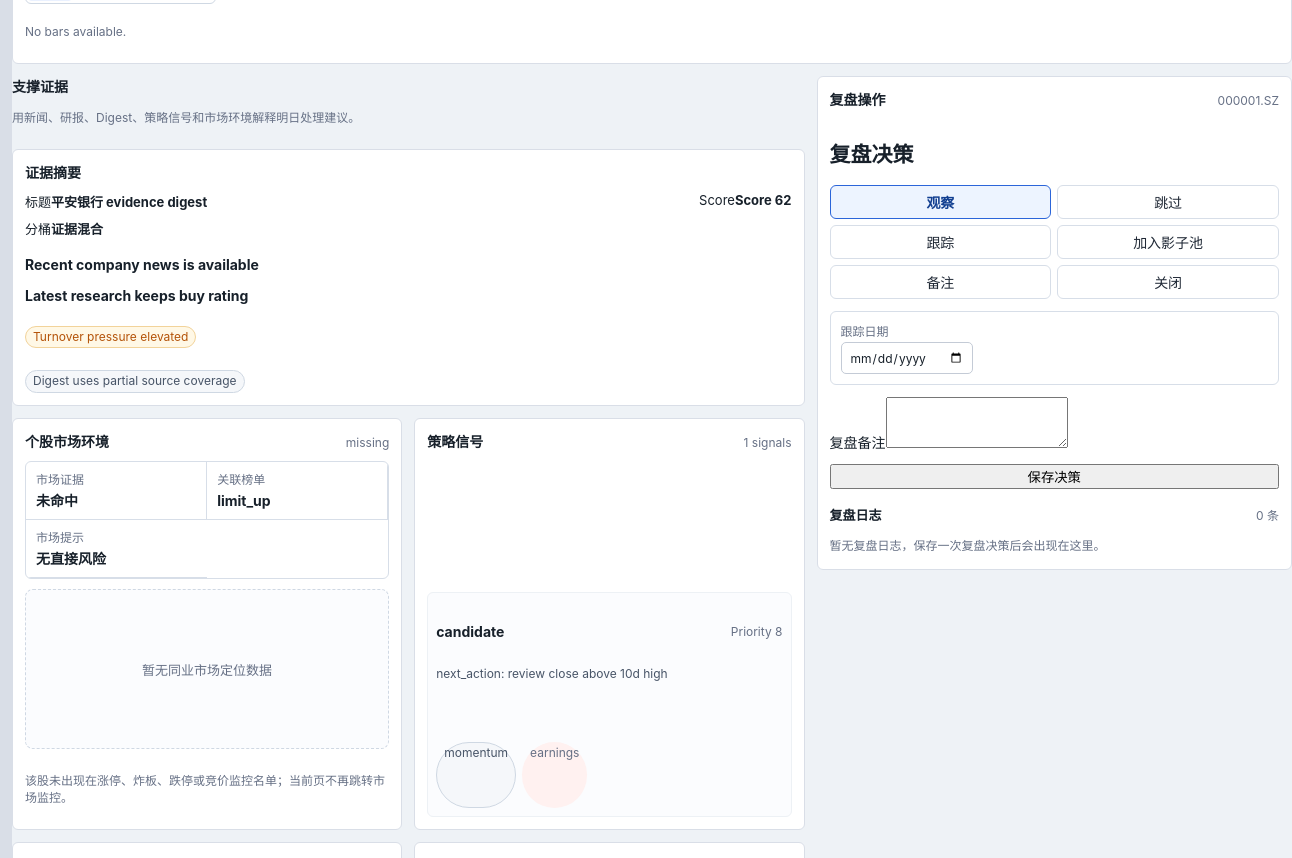
Test: StockWorkspace › creates operator decisions from Evidence Digest lineage and refreshes history
(page scrolled)
expect the text "平安银行 evidence digest" is shown: met, box [51,194,207,210]
Type "观察回踩确认" into the text box named "operator note" at (976, 423), box [886,398,1068,448]
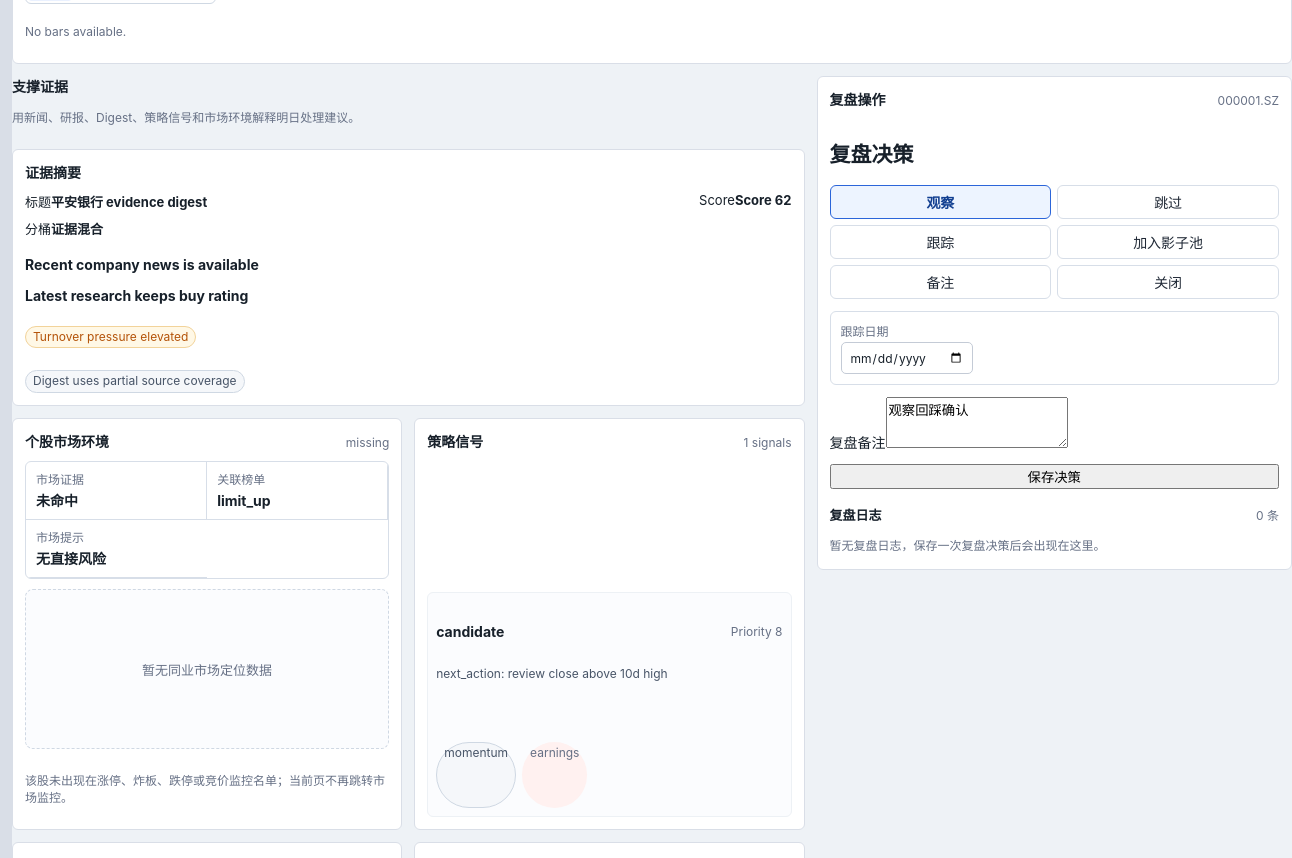
Click the button with aria-label "Save decision" at (1054, 477), box [830,464,1279,490]
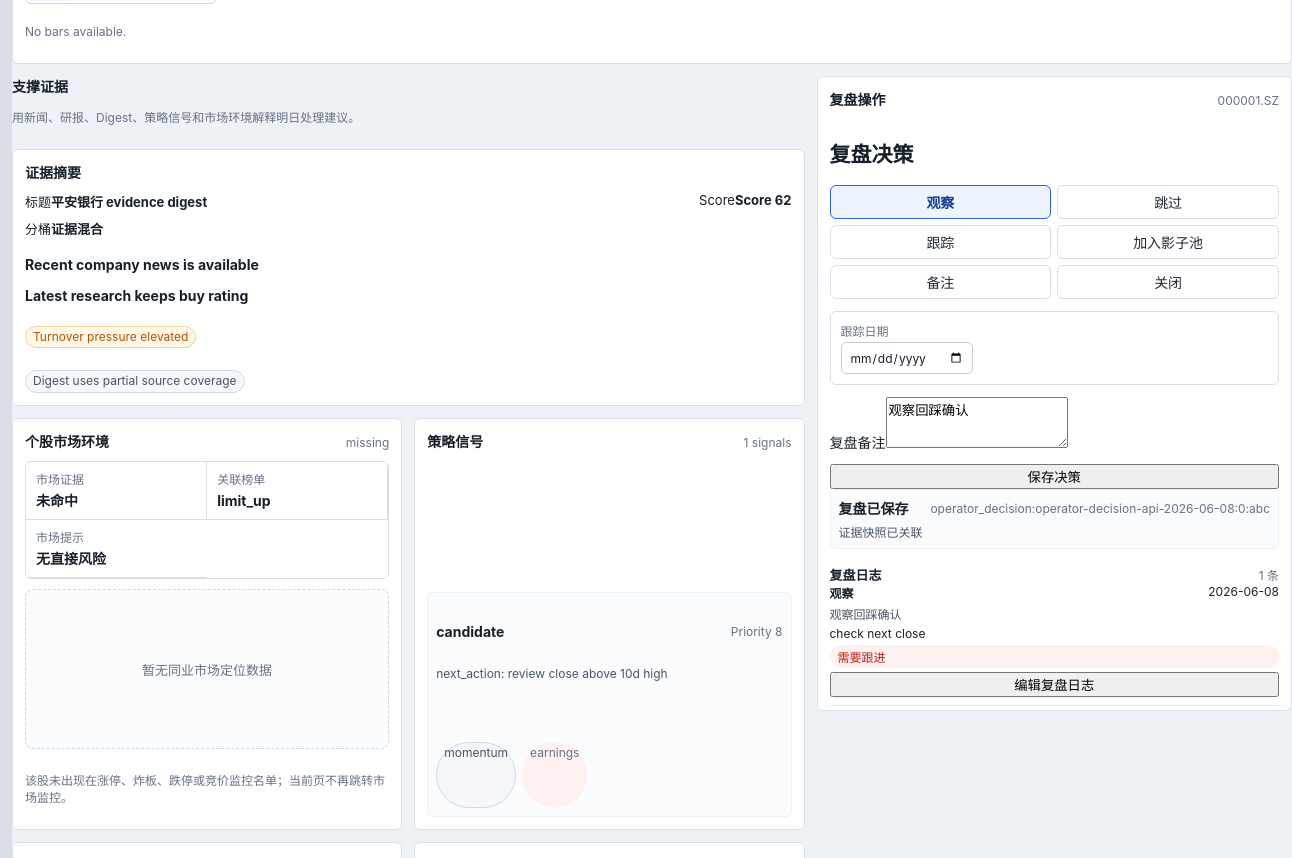
expect the text "证据快照已关联" is shown: met, box [838,526,922,540]
